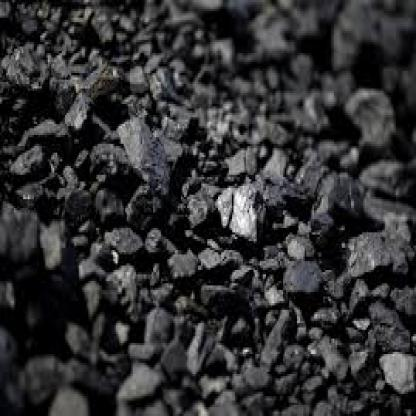Sedimentary_coal: (122, 113, 170, 190), (310, 168, 370, 226), (278, 252, 324, 301), (40, 215, 78, 274), (116, 356, 164, 401)
